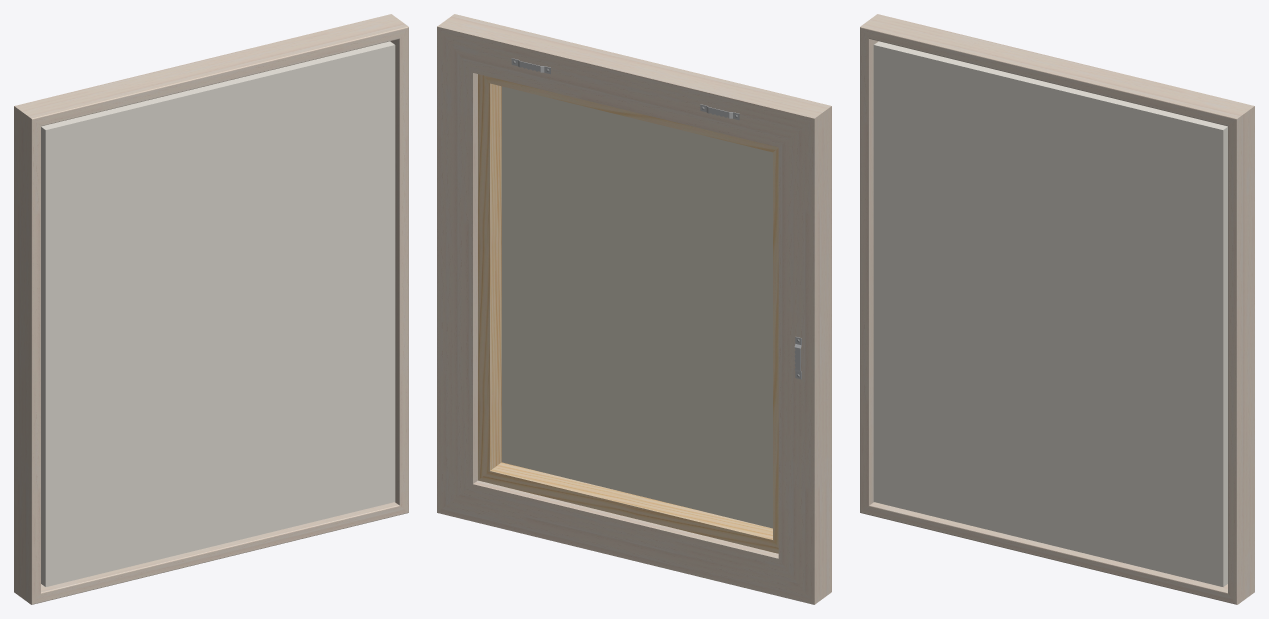
File: delivery.glb
3 views of the same model, side by side, from view 1: azimuth 30°, elevation 25°; view 2: azimuth 150°, elevation 25°; view 3: azimuth 330°, elevation 25° (orthographic).
Visible parts, largest first — view 1: Canvas artwork front, Tray approved profile 0; view 2: Canvas linen reverse, Tray approved profile 0, Stretcher top, Sawtooth hanger 0; view 3: Canvas artwork front, Tray approved profile 0.
Part boxes in pixels (x1,y1,x2,y2): Canvas artwork front: (41, 41, 395, 586); Tray approved profile 0: (14, 14, 408, 604); Canvas linen reverse: (501, 86, 772, 528); Tray approved profile 0: (437, 14, 831, 604); Stretcher top: (478, 74, 778, 553); Sawtooth hanger 0: (511, 58, 801, 379); Canvas artwork front: (873, 41, 1227, 586); Tray approved profile 0: (860, 14, 1254, 604).
Bounding box in the file's own units: 0.432 × 0.532 × 0.0374.
Materials: 7 (3 with a texture image).
